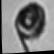correct: (7, 0, 54, 53)
